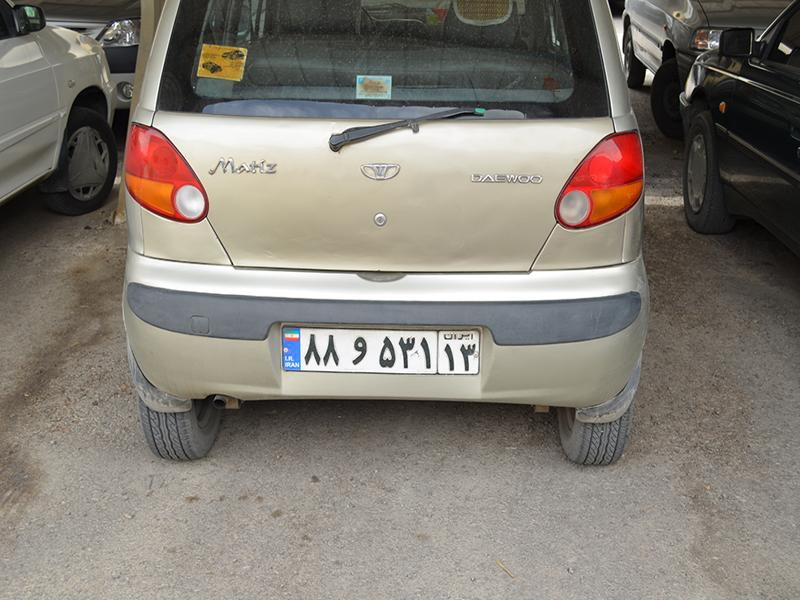Plate: (267, 315, 489, 381)
